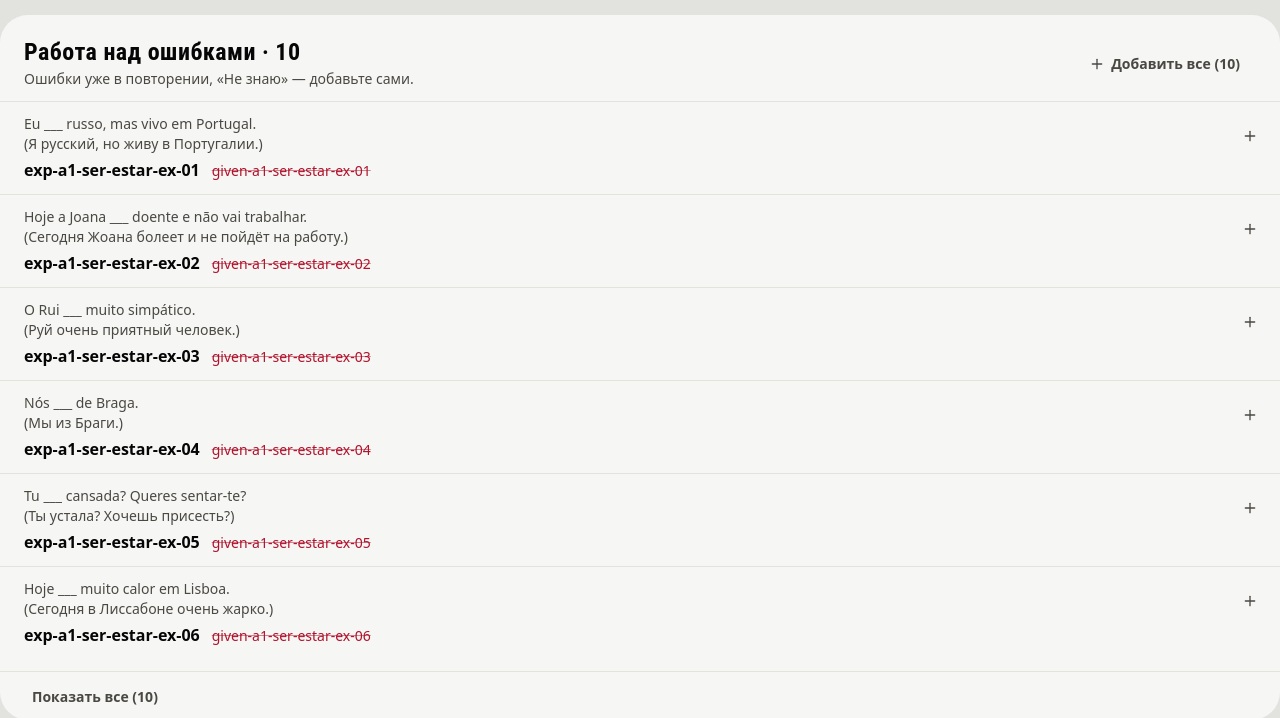
Test case: ResultScreen: mistakes («Работа над ошибками») › more than 6 mistakes → «Показать все (n)»
The image size is (1280, 718).
(page scrolled)
Expected: the number of list items is 6, [0,102,1279,195]; [0,195,1279,288]; [0,288,1279,381]; [0,381,1279,474]; [0,474,1279,567]; [0,567,1279,659]
Click the button "Показать все (10)" at (95, 696), box [16,678,174,714]
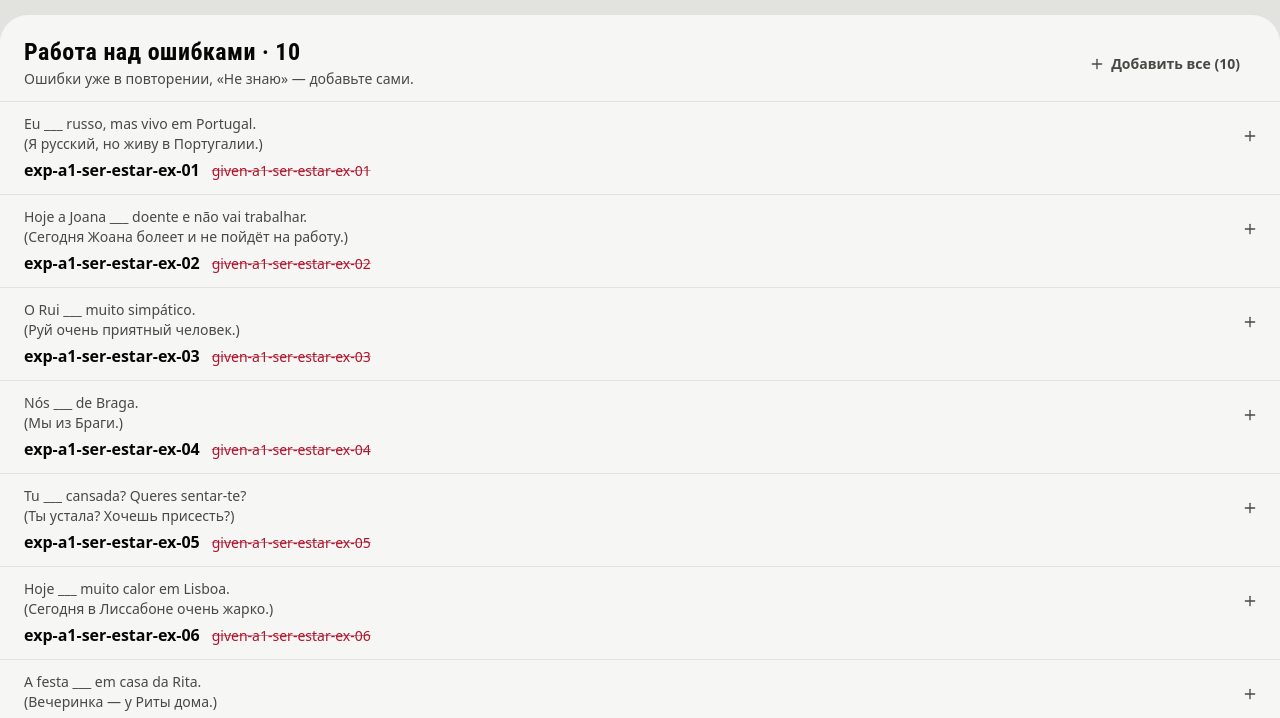
Expected: the number of list items is 10
